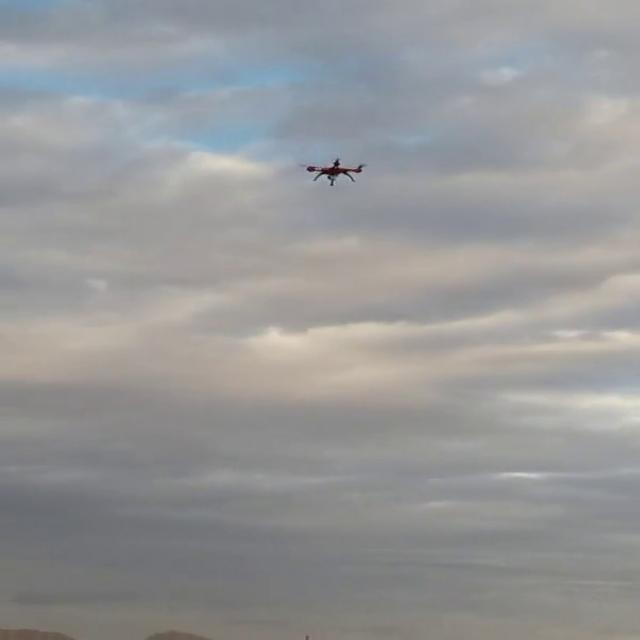drone: (300, 153, 372, 186)
